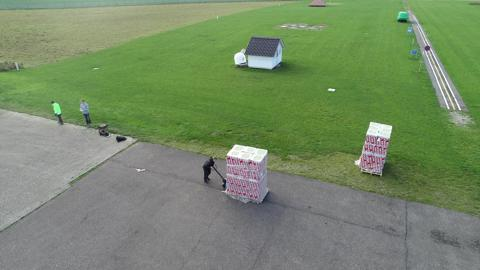RockwoolPallet: (226, 143, 270, 204)
